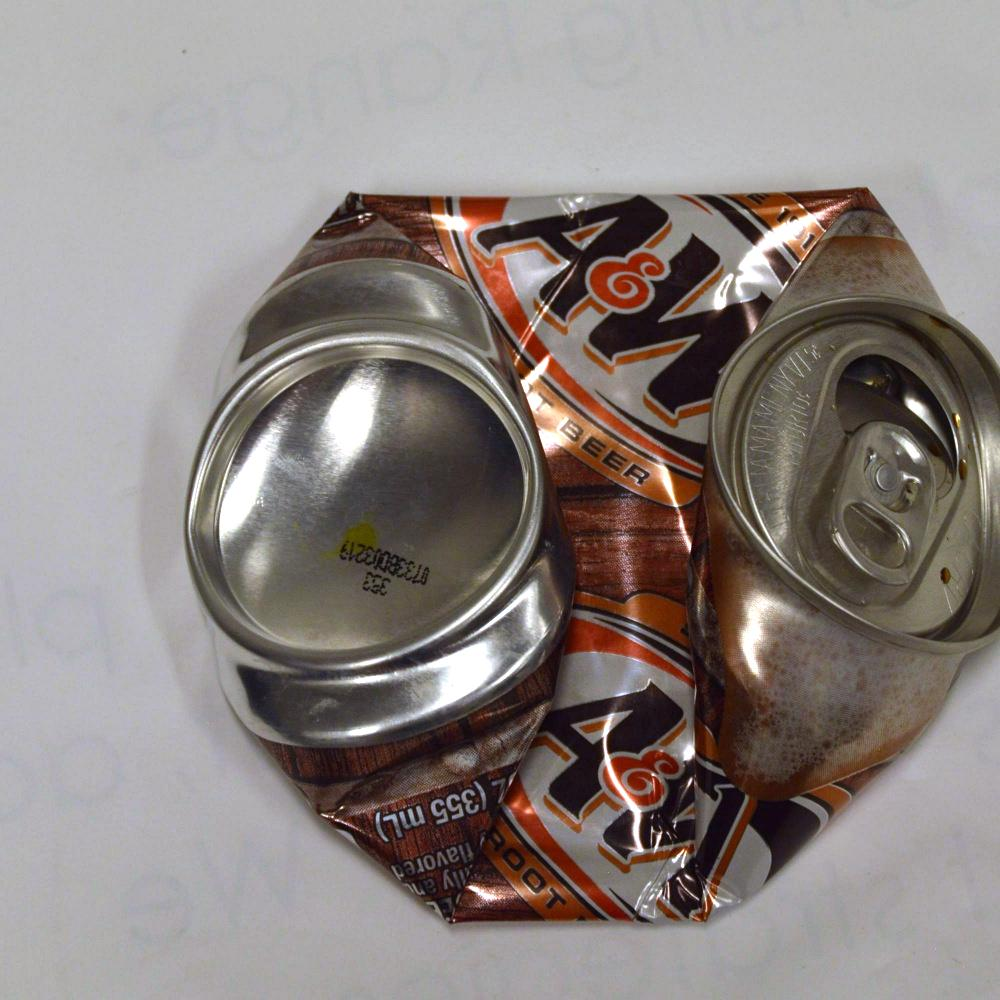Metal: (180, 147, 945, 908)
